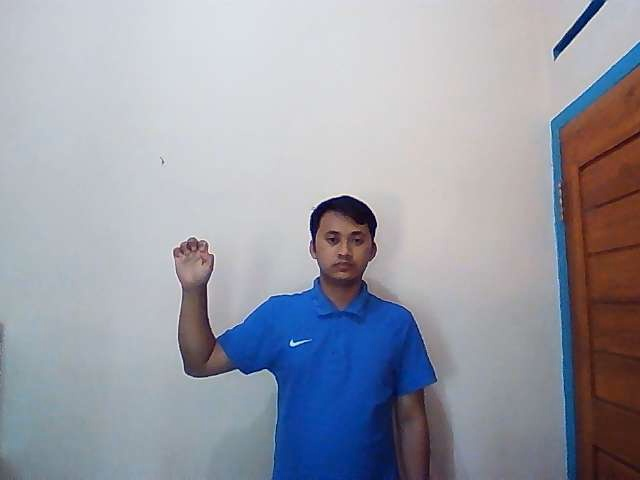E: (172, 238, 216, 286)
